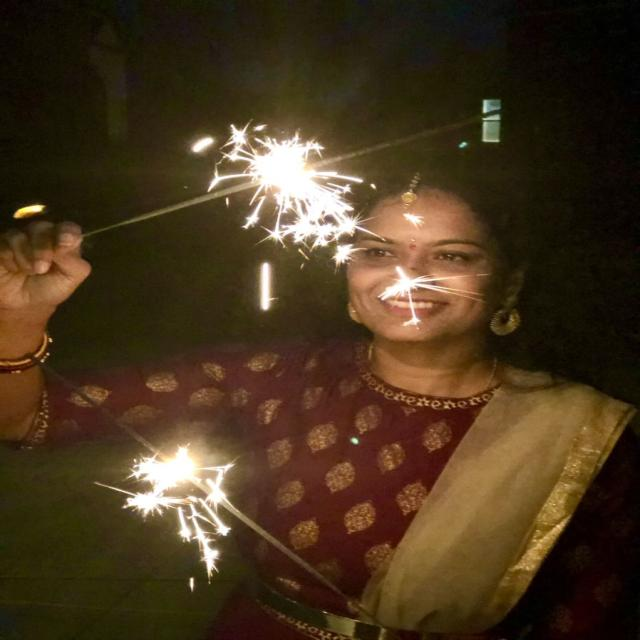fire: (190, 120, 362, 265), (124, 440, 235, 593), (380, 264, 464, 329)
